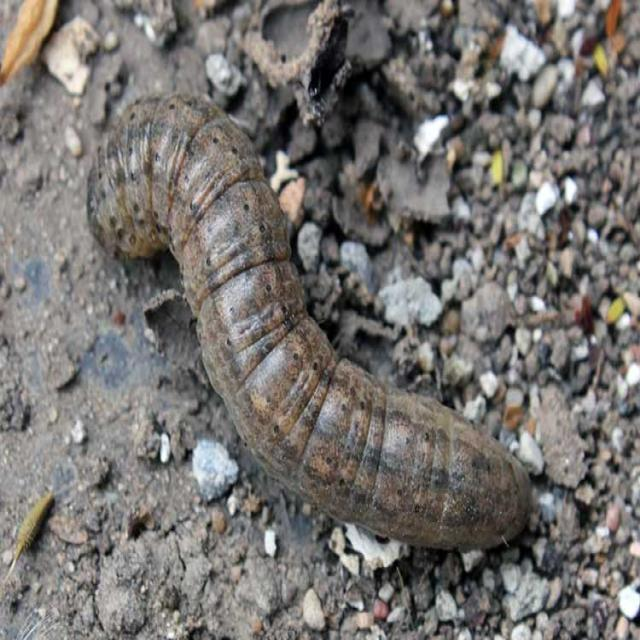Cutworm: (85, 93, 534, 550)
